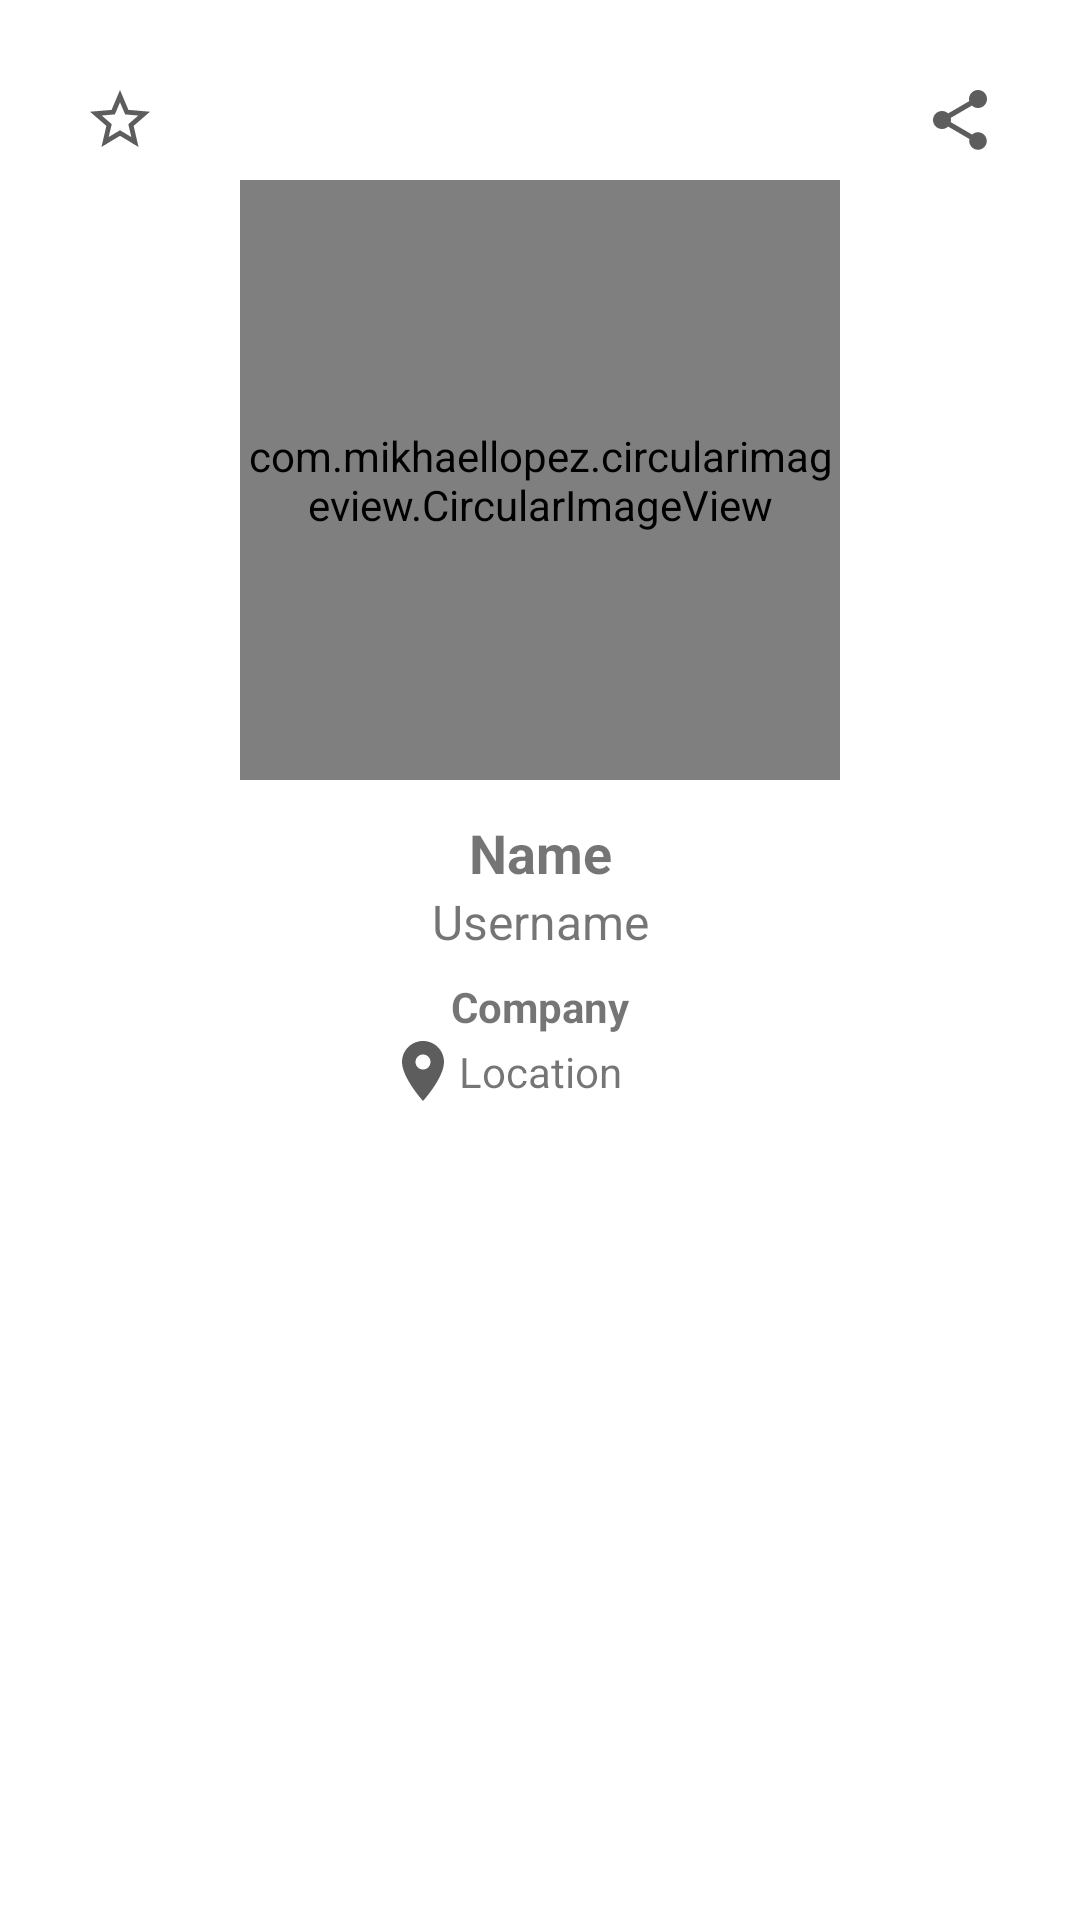

Icon click points for this 1080×1920 phone screenshot, format (x=x, y=y):
fav off: (x=120, y=118)
share: (x=960, y=120)
